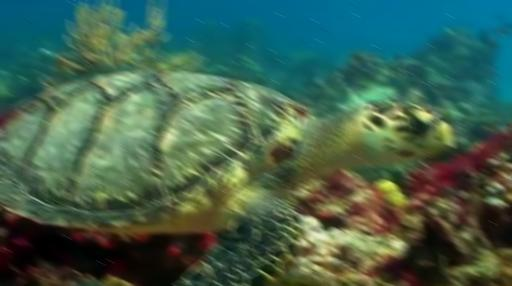Fish: (0, 71, 451, 285)
